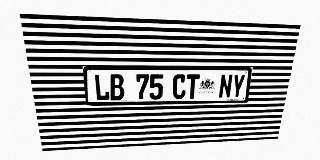5: (150, 74, 163, 100)
7: (135, 74, 149, 100)
B: (109, 74, 124, 100)
C: (172, 74, 186, 99)
L: (94, 74, 110, 101)
N: (218, 74, 233, 98)
T: (186, 74, 200, 99)
Y: (231, 74, 246, 98)
